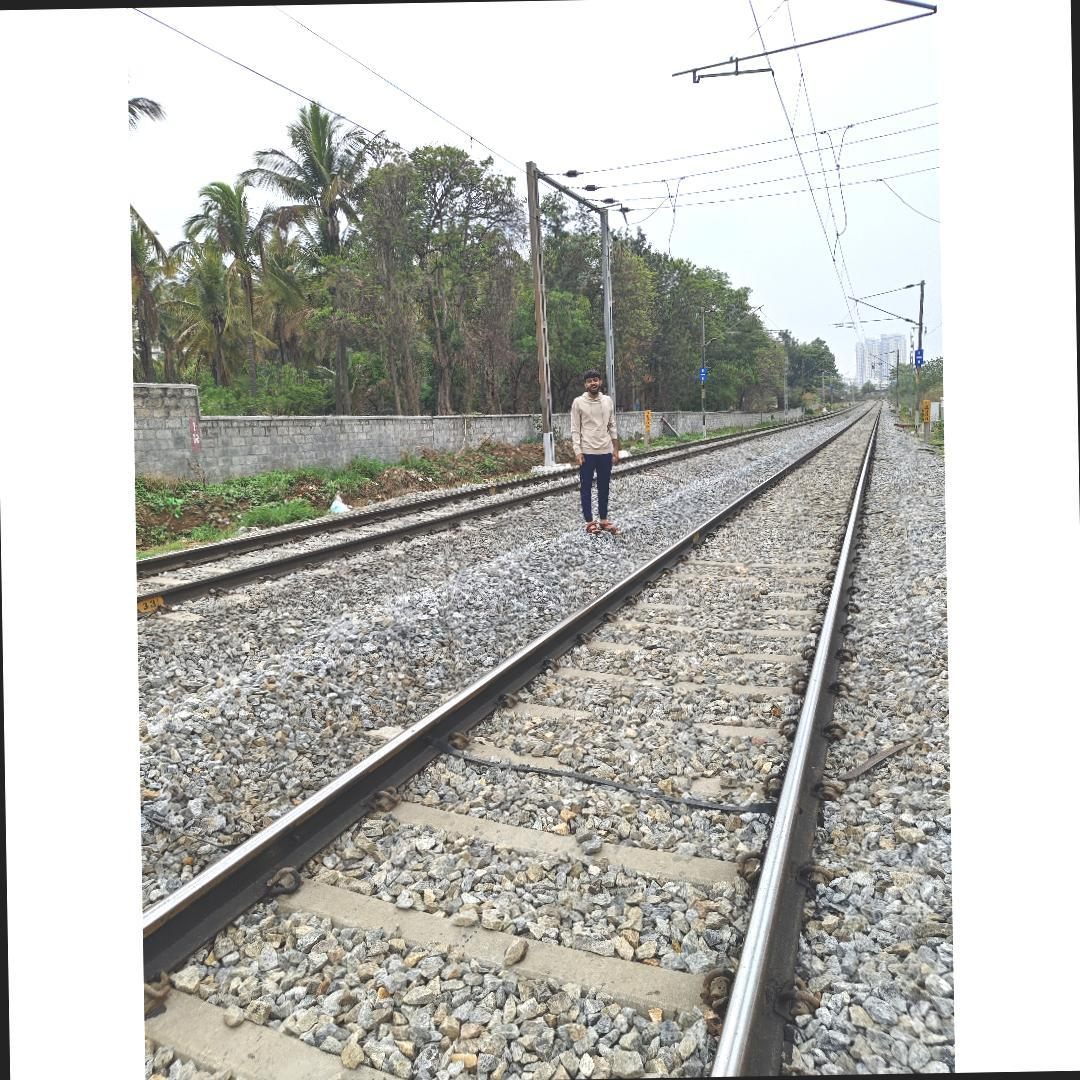standing: (566, 368, 621, 534)
track: (140, 393, 903, 1080)
